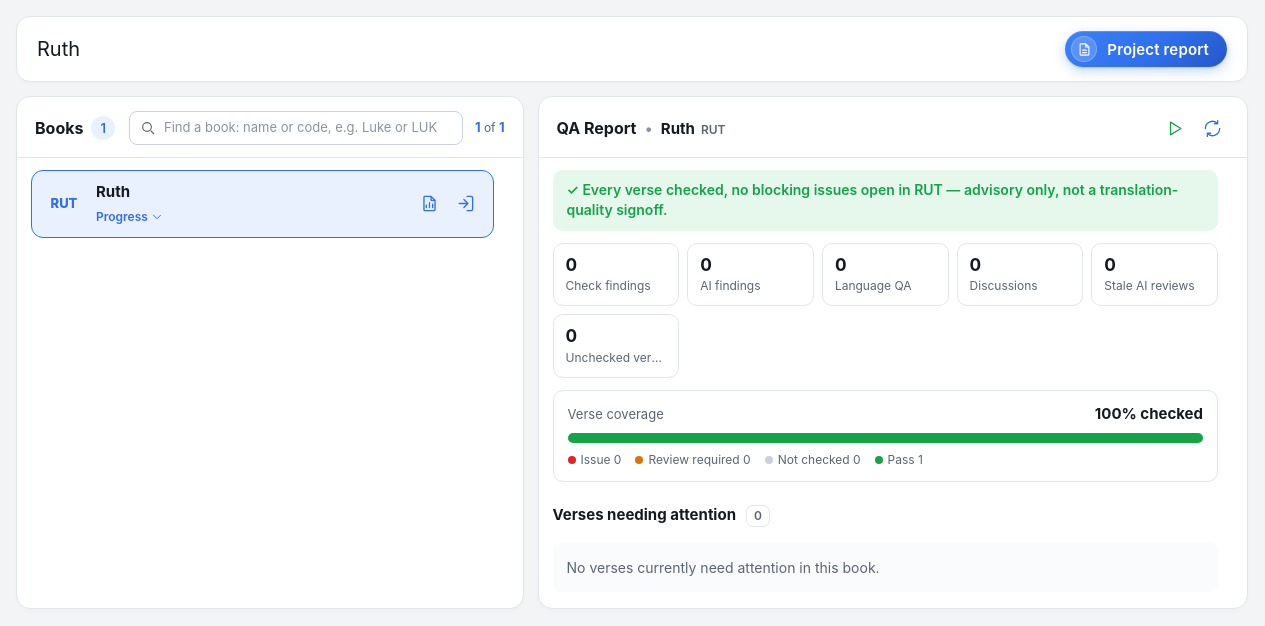
Test case: ProjectDashboard › keeps a checked book's four meters behind the Progress toggle
Expected: the text "Checked 2/4 chapters" is not shown
Click the button with aria-label "Show progress of Ruth".
click(130, 216)  # box [92,206,168,226]
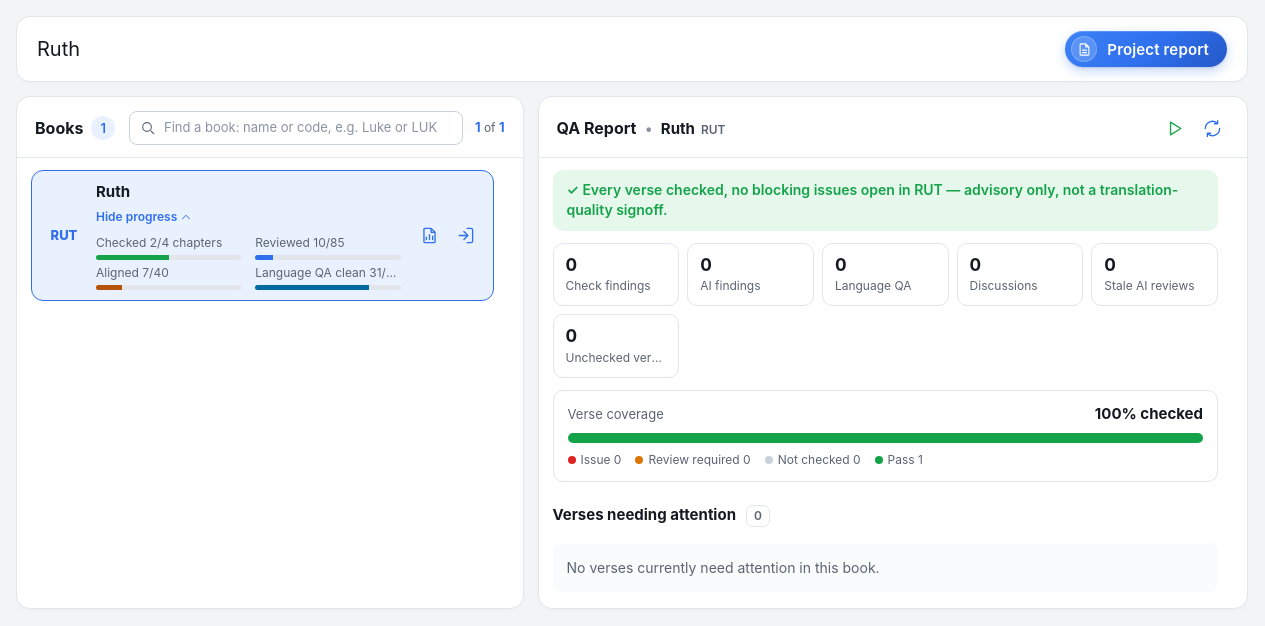
Now the text "Checked 2/4 chapters" is shown, box [96,234,241,252]
Now the text "Reviewed 10/85" is shown, box [255,234,345,250]
Now the text "Aligned 7/40" is shown, box [96,264,169,280]
